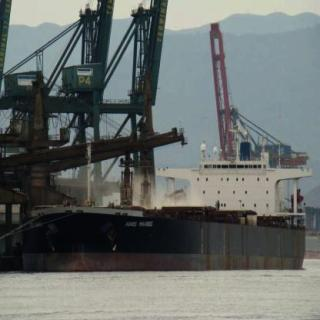Bulk Carrier: (0, 0, 317, 272)
